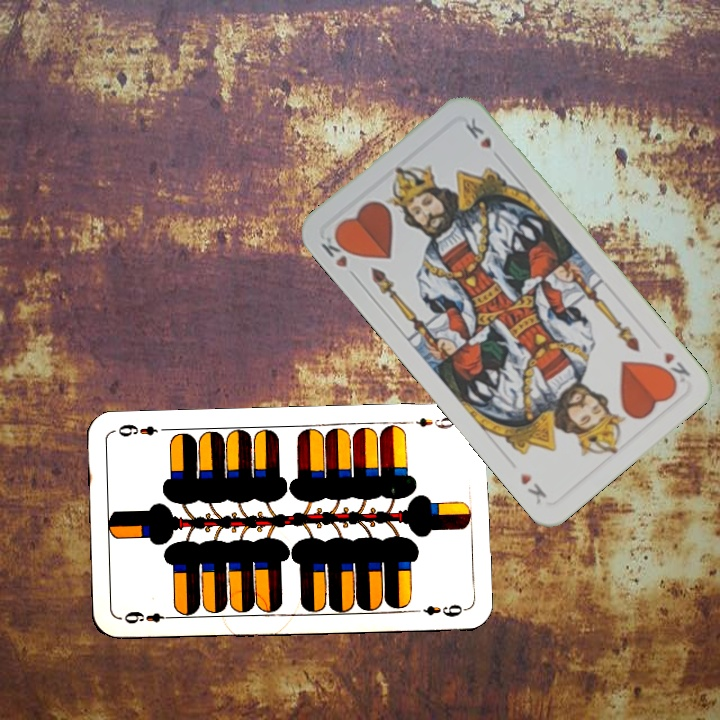E9: (120, 607, 176, 627), (412, 413, 457, 431)
HK: (317, 229, 358, 271), (654, 347, 693, 388)
